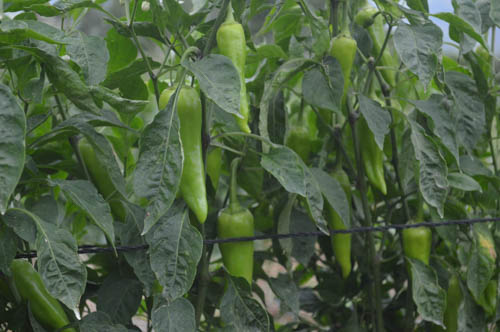ChiliPepper: (163, 85, 209, 223), (12, 260, 66, 329), (79, 141, 128, 215), (222, 21, 252, 135), (326, 172, 358, 277), (218, 208, 257, 287), (323, 36, 354, 114), (403, 221, 432, 293), (285, 126, 311, 185)
